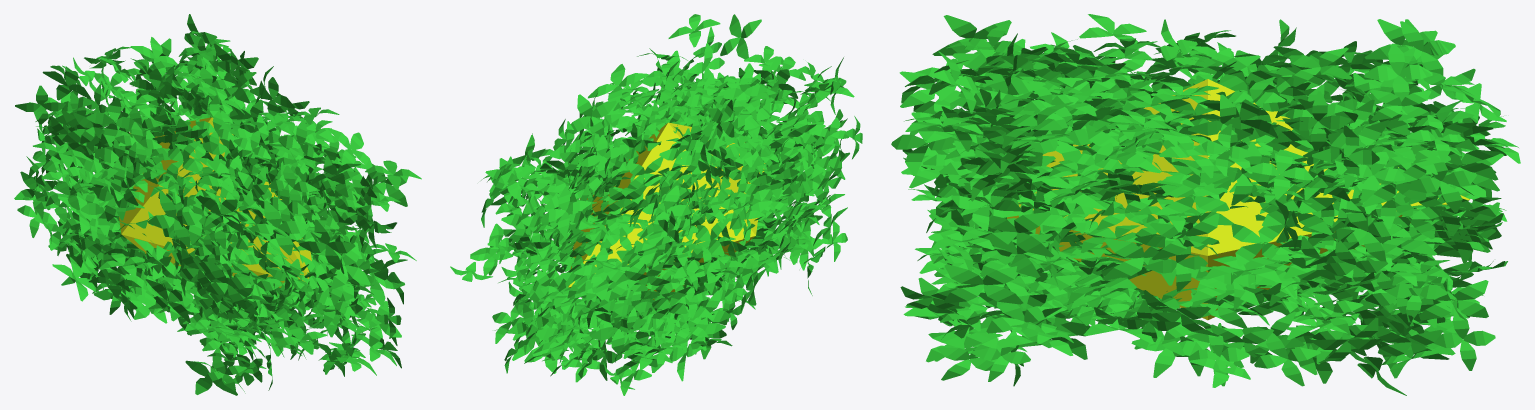
The model's file is bushNoFlower.fbx.
3 views of the same model, side by side, from view 1: azimuth 30°, elevation 25°; view 2: azimuth 150°, elevation 25°; view 3: azimuth 270°, elevation 25° (orthographic). The views are drawn at different scales.
Visible parts, largest first — view 1: bush, bush|leaf|Dupli|85, bush|leaf|Dupli|481, bush|leaf|Dupli|111, bush|leaf|Dupli|273, bush|leaf|Dupli|1006, bush|leaf|Dupli|475, bush|leaf|Dupli|509, bush|leaf|Dupli|687, bush|leaf|Dupli|771, bush|leaf|Dupli|674, bush|leaf|Dupli|915 (+70 smaller); view 2: bush, bush|leaf|Dupli|488, bush|leaf|Dupli|174, bush|leaf|Dupli|541, bush|leaf|Dupli|314, bush|leaf|Dupli|117, bush|leaf|Dupli|440, bush|leaf|Dupli|171, bush|leaf|Dupli|216, bush|leaf|Dupli|786, bush|leaf|Dupli|616, bush|leaf|Dupli|327 (+56 smaller); view 3: bush, bush|leaf|Dupli|305, bush|leaf|Dupli|507, bush|leaf|Dupli|953, bush|leaf|Dupli|806, bush|leaf|Dupli|342, bush|leaf|Dupli|403, bush|leaf|Dupli|67, bush|leaf|Dupli|609, bush|leaf|Dupli|80, bush|leaf|Dupli|555, bush|leaf|Dupli|808 (+115 smaller).
Boxes of the visible parts, box(x1,y1,x2,y2) form: bush: box(119, 117, 311, 294); bush|leaf|Dupli|85: box(246, 200, 309, 255); bush|leaf|Dupli|481: box(147, 190, 202, 247); bush|leaf|Dupli|111: box(298, 219, 355, 269); bush|leaf|Dupli|273: box(86, 98, 141, 146); bush|leaf|Dupli|1006: box(206, 259, 250, 308); bush|leaf|Dupli|475: box(324, 242, 370, 288); bush|leaf|Dupli|509: box(196, 196, 244, 233); bush|leaf|Dupli|687: box(328, 128, 372, 168); bush|leaf|Dupli|771: box(145, 279, 190, 322); bush|leaf|Dupli|674: box(316, 285, 355, 327); bush|leaf|Dupli|915: box(278, 119, 322, 174); bush: box(568, 122, 765, 302); bush|leaf|Dupli|488: box(565, 94, 616, 137); bush|leaf|Dupli|174: box(540, 186, 591, 236); bush|leaf|Dupli|541: box(588, 64, 648, 107); bush|leaf|Dupli|314: box(720, 14, 761, 59); bush|leaf|Dupli|117: box(639, 185, 694, 232); bush|leaf|Dupli|440: box(718, 68, 768, 115); bush|leaf|Dupli|171: box(690, 218, 730, 260); bush|leaf|Dupli|216: box(590, 313, 646, 354); bush|leaf|Dupli|786: box(579, 134, 627, 178); bush|leaf|Dupli|616: box(607, 261, 648, 300); bush|leaf|Dupli|327: box(751, 159, 799, 198); bush: box(1007, 79, 1470, 320); bush|leaf|Dupli|305: box(943, 264, 1023, 304); bush|leaf|Dupli|507: box(982, 212, 1053, 257); bush|leaf|Dupli|953: box(1155, 175, 1232, 215); bush|leaf|Dupli|806: box(1405, 156, 1476, 212); bush|leaf|Dupli|342: box(1262, 189, 1336, 234); bush|leaf|Dupli|403: box(1231, 223, 1292, 266); bush|leaf|Dupli|67: box(1332, 200, 1402, 261); bush|leaf|Dupli|609: box(1419, 280, 1488, 320); bush|leaf|Dupli|80: box(1149, 213, 1219, 259); bush|leaf|Dupli|555: box(986, 301, 1061, 347); bush|leaf|Dupli|808: box(1364, 43, 1432, 105).
Bounding box in the file's own units: 102 × 102 × 194.
